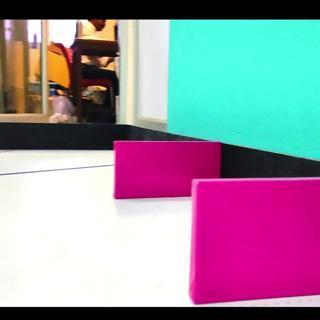xparking: (196, 186, 316, 293), (114, 141, 188, 195)
